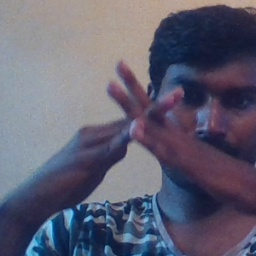W: (74, 51, 206, 185)
